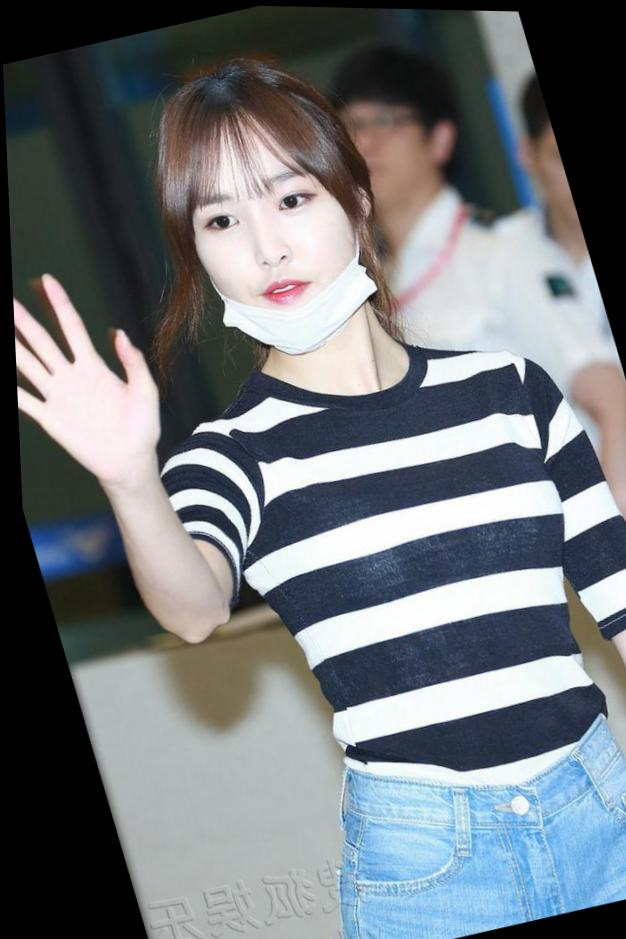NONE: (326, 84, 441, 210)
WRONG: (158, 147, 383, 367)
